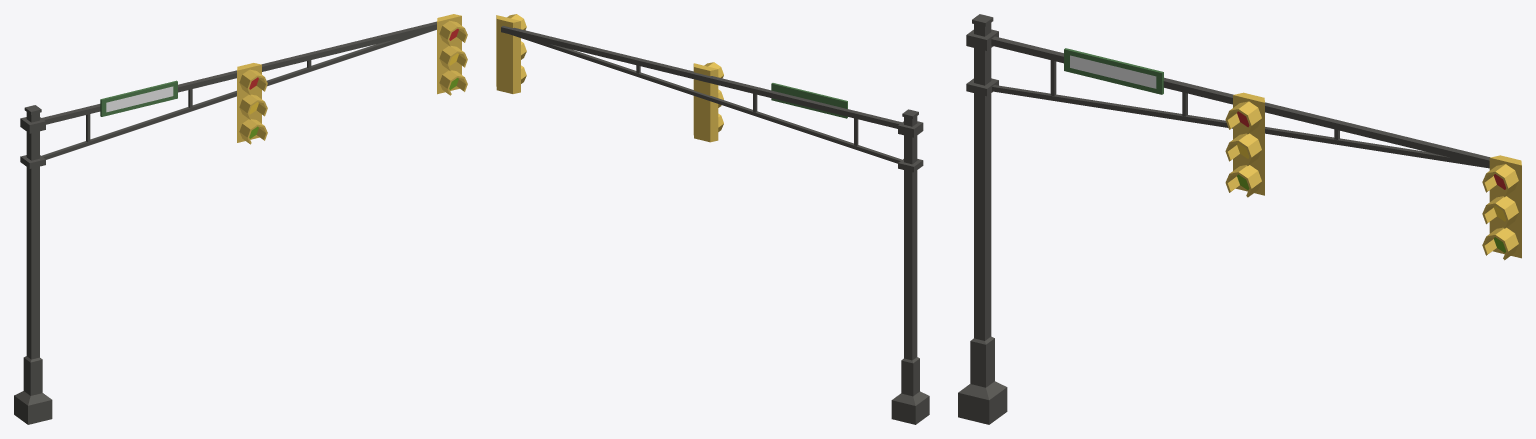
Rendered from Traffic_Light_2.fbx.
3 views of the same model, side by side, from view 1: azimuth 30°, elevation 25°; view 2: azimuth 150°, elevation 25°; view 3: azimuth 330°, elevation 25° (orthographic). The views are drawn at different scales.
Visible parts, largest first — view 1: Traffic_Light_2; view 2: Traffic_Light_2; view 3: Traffic_Light_2.
Boxes of the visible parts, bbox=[...] form: Traffic_Light_2: bbox=[14, 14, 467, 424]; Traffic_Light_2: bbox=[496, 14, 929, 424]; Traffic_Light_2: bbox=[958, 14, 1521, 424].
Bounding box in the file's own units: 900 × 608 × 70.09.
1 material, 1 textured.
